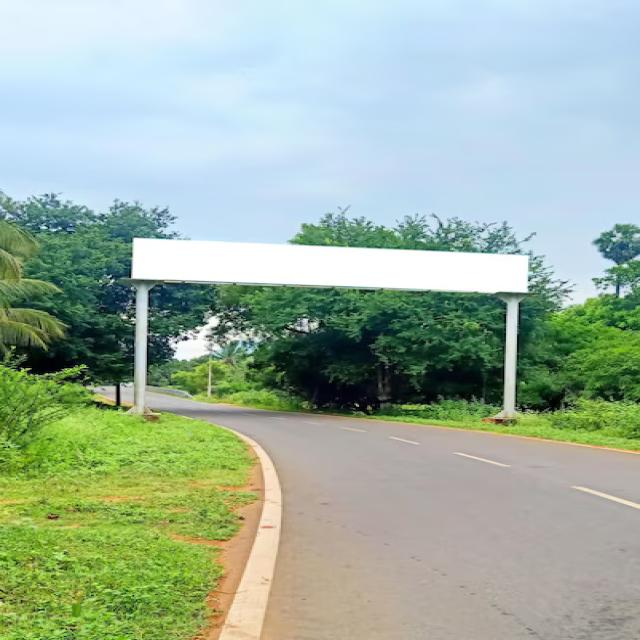Billboard_overhead: (101, 206, 585, 327)
Roadcorner: (162, 394, 303, 639), (425, 416, 638, 462)
Roadlane: (367, 428, 638, 525)
